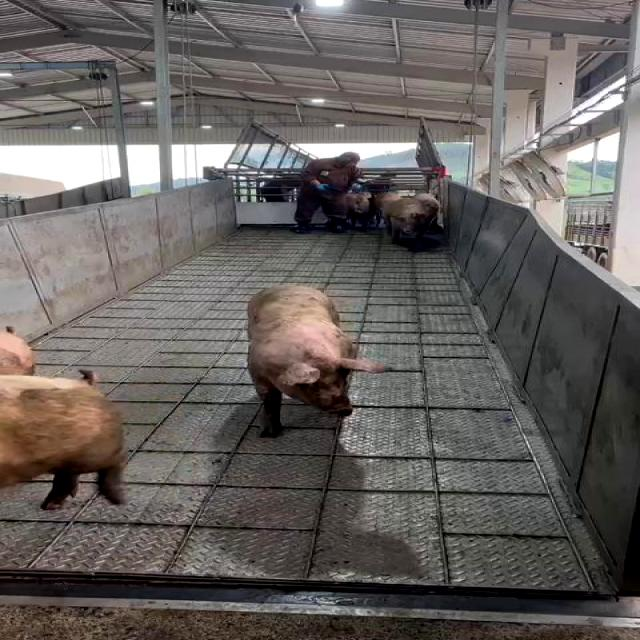pig: (248, 285, 385, 435), (1, 375, 127, 507)
